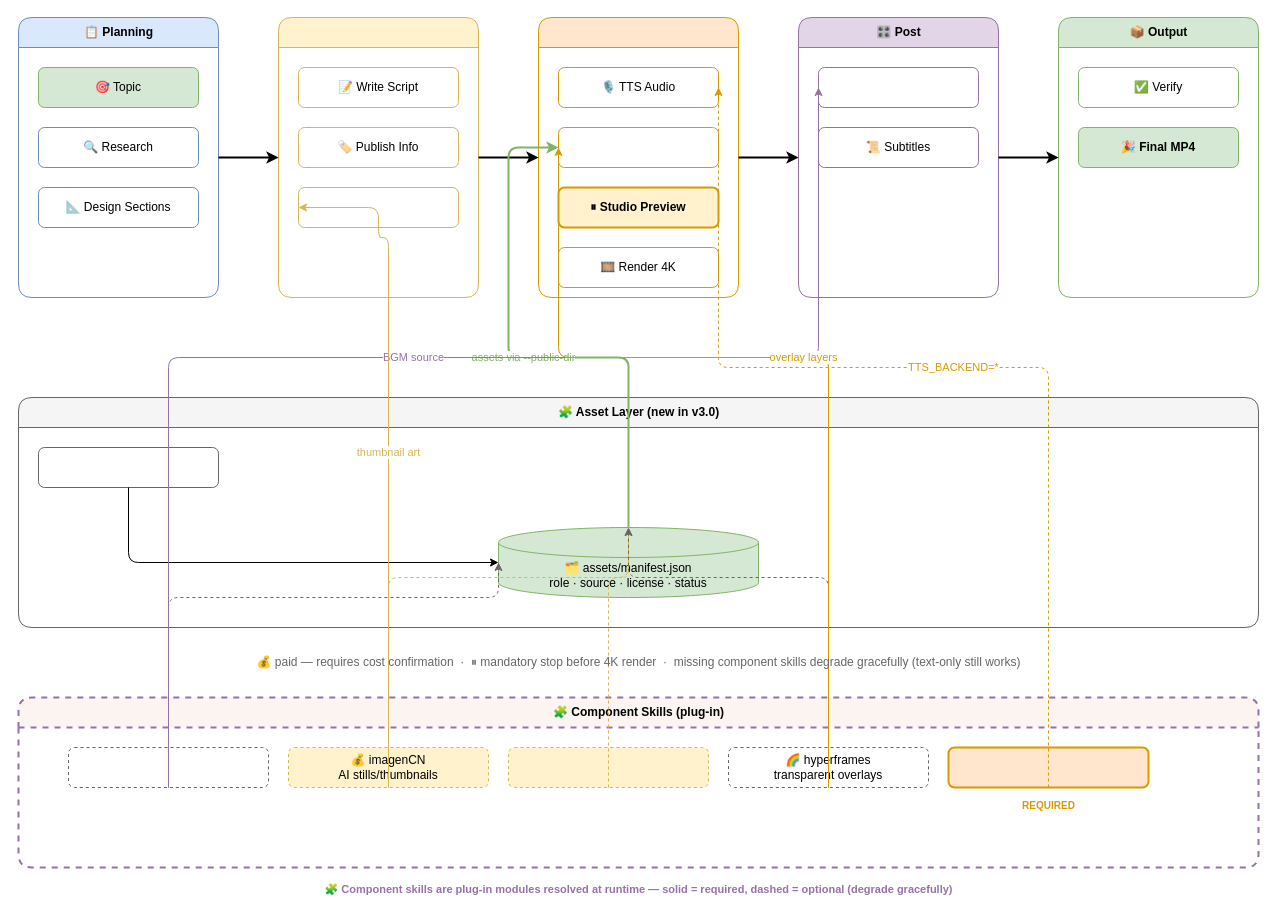
The diagram is 1276 pixels wide and 919 high, and some of its shapes have lost their labels. The box of each missing label's shape, as (x1, y1, x2, y2) in pixels:
⚛️ Remotion Composition: (558, 126, 718, 168)
✍️ Content: (278, 16, 478, 298)
🎙️ ttsCN TTS engine, 11 platforms: (947, 746, 1149, 788)
🎬 Production: (538, 16, 738, 298)
🎵 Mix BGM: (818, 66, 978, 108)
💰 videogenCN AI video clips (B-roll): (508, 746, 708, 788)
📁 User Files: (38, 446, 218, 488)
🔎 assetSeeker stock photos/video/BGM: (68, 746, 268, 788)
🖼️ Thumbnail: (298, 186, 458, 228)
